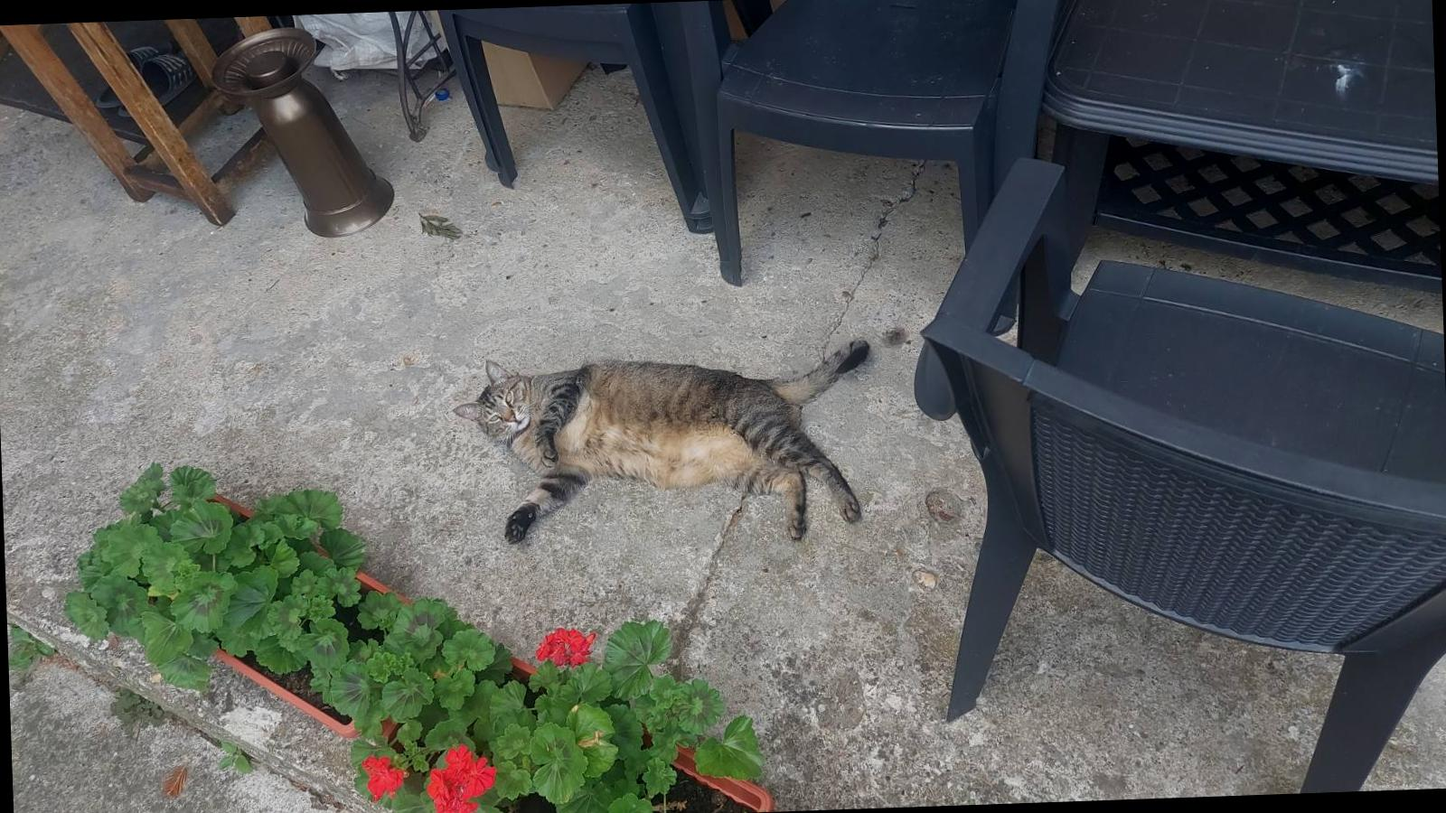macka: (449, 336, 878, 552)
